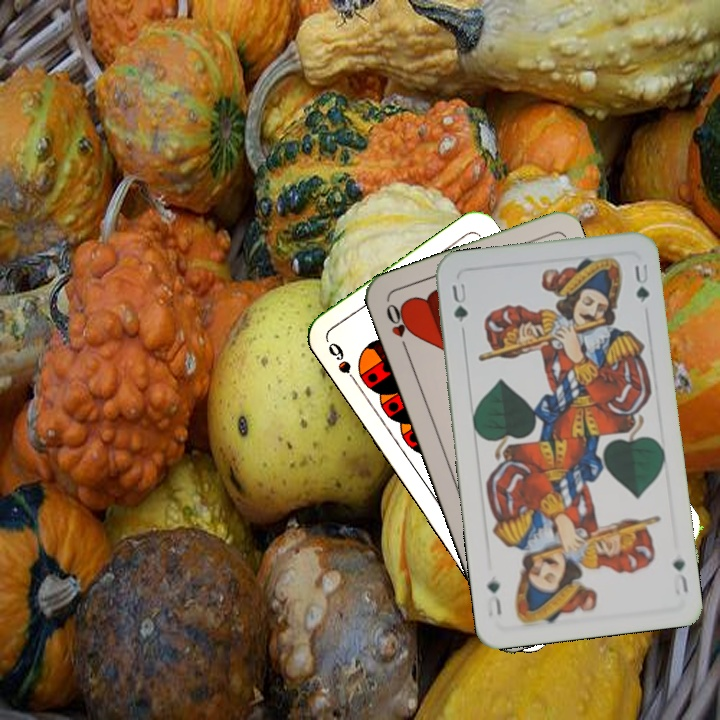GU: (447, 279, 471, 335), (669, 553, 691, 596)
HO: (382, 299, 413, 355)
S9: (324, 338, 363, 390)
